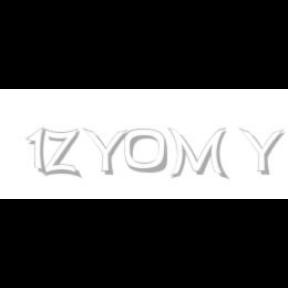1: (26, 128, 48, 176)
M: (168, 128, 226, 180)
O: (124, 128, 168, 174)
Y: (82, 128, 128, 176), (238, 128, 284, 176)
Z: (42, 128, 79, 178)
